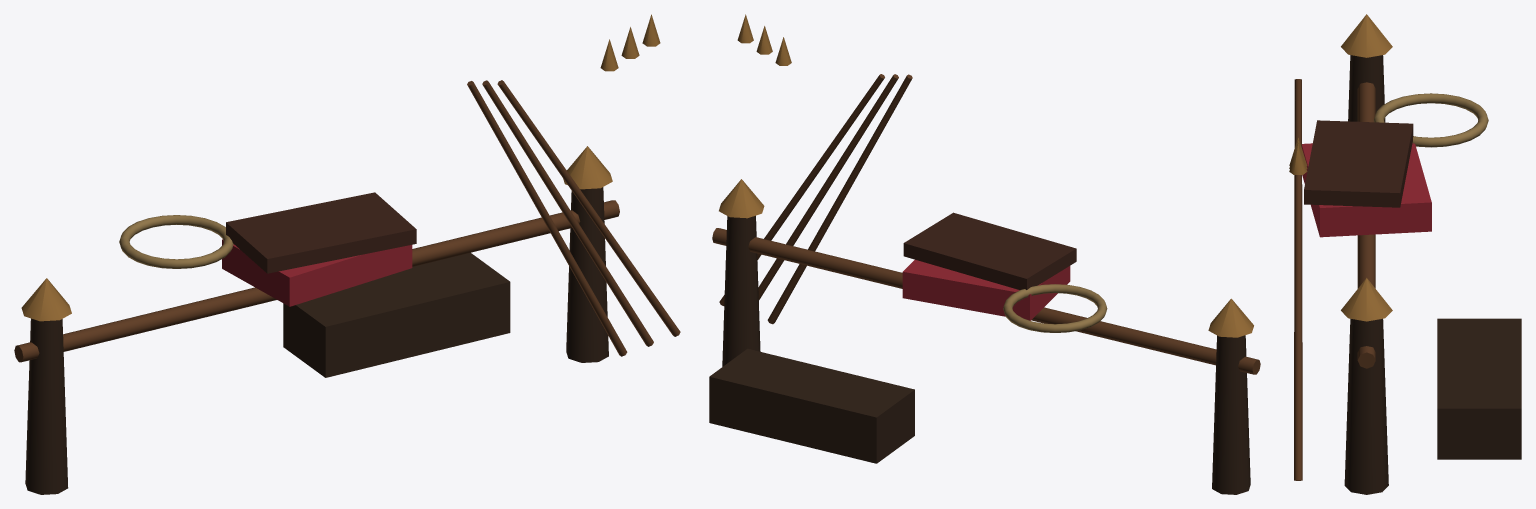
Rendered from cavalry-tether.glb.
The picture shows the model from 3 angles, left to right: view 1: azimuth 30°, elevation 25°; view 2: azimuth 150°, elevation 25°; view 3: azimuth 270°, elevation 25°; orthographic projection. The views are drawn at different scales.
Parts seen in each view (by area): view 1: feed_trough, saddle_leather, tie_rail, post_left, folded_saddle_blanket, post_right, resting_lance_0, resting_lance_1, rope_coil, resting_lance_2, post_cap_left, post_cap_right; view 2: feed_trough, saddle_leather, tie_rail, post_left, folded_saddle_blanket, post_right, rope_coil, resting_lance_0, resting_lance_1, resting_lance_2, post_cap_left, post_cap_right; view 3: feed_trough, saddle_leather, post_right, folded_saddle_blanket, resting_lance_2, rope_coil, tie_rail, post_left, post_cap_left, post_cap_right, resting_lance_tip_2.
Part boxes in pixels (x1,y1,x2,y2): feed_trough: (283, 252, 510, 377); saddle_leather: (226, 192, 416, 273); tie_rail: (14, 200, 619, 362); post_left: (25, 318, 68, 494); folded_saddle_blanket: (222, 239, 412, 306); post_right: (566, 187, 608, 362); resting_lance_0: (467, 81, 627, 356); resting_lance_1: (482, 80, 653, 346); rope_coil: (119, 215, 233, 268); resting_lance_2: (497, 80, 680, 336); post_cap_left: (21, 278, 71, 321); post_cap_right: (563, 146, 612, 189); feed_trough: (709, 348, 914, 463); saddle_leather: (903, 212, 1076, 289); tie_rail: (712, 228, 1260, 374); post_left: (1212, 335, 1250, 494); folded_saddle_blanket: (902, 259, 1070, 320); post_right: (722, 215, 760, 366); rope_coil: (1003, 284, 1107, 332); resting_lance_0: (767, 74, 912, 324); resting_lance_1: (758, 74, 898, 300); resting_lance_2: (719, 74, 884, 305); post_cap_left: (1208, 298, 1253, 337); post_cap_right: (719, 179, 764, 218); feed_trough: (1437, 318, 1521, 459); saddle_leather: (1304, 120, 1413, 207); post_right: (1344, 318, 1388, 494); folded_saddle_blanket: (1302, 143, 1431, 237); resting_lance_2: (1294, 100, 1302, 480); rope_coil: (1373, 93, 1488, 147); tie_rail: (1357, 82, 1375, 368); post_left: (1348, 55, 1385, 122); post_cap_left: (1341, 14, 1392, 57); post_cap_right: (1341, 278, 1392, 321); resting_lance_tip_2: (1289, 143, 1307, 174).
Size of the model in its own units: 3.59 by 1.96 by 1.15.
